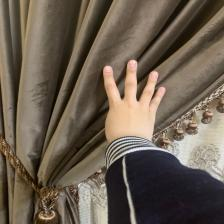four: (91, 57, 174, 151)
